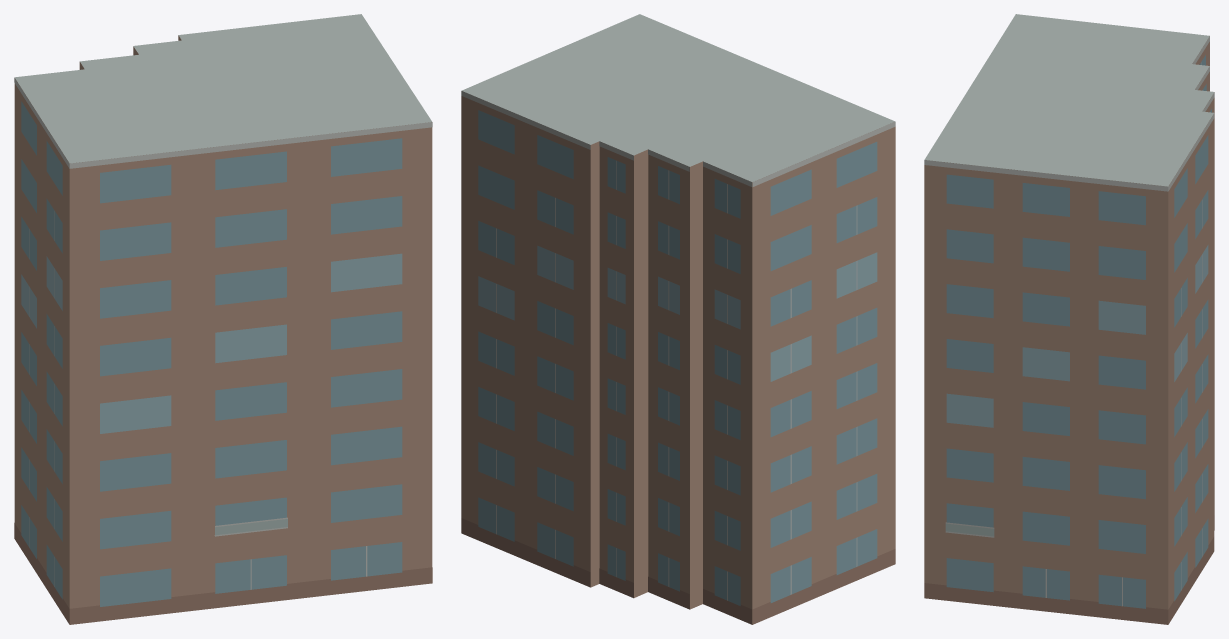
Rendered from survey-upis-32654716.glb.
3 views of the same model, side by side, from view 1: azimuth 30°, elevation 25°; view 2: azimuth 150°, elevation 25°; view 3: azimuth 270°, elevation 25° (orthographic). The views are drawn at different scales.
Parts seen in each view (by area): view 1: survey-upis-32654716.tmp; view 2: survey-upis-32654716.tmp; view 3: survey-upis-32654716.tmp.
Boxes of the visible parts, x1,y1,x2,y2 form: survey-upis-32654716.tmp: [14, 14, 432, 624]; survey-upis-32654716.tmp: [461, 14, 895, 624]; survey-upis-32654716.tmp: [924, 14, 1214, 624].
Size of the model in its own units: 17.82 by 21.1 by 12.67.
